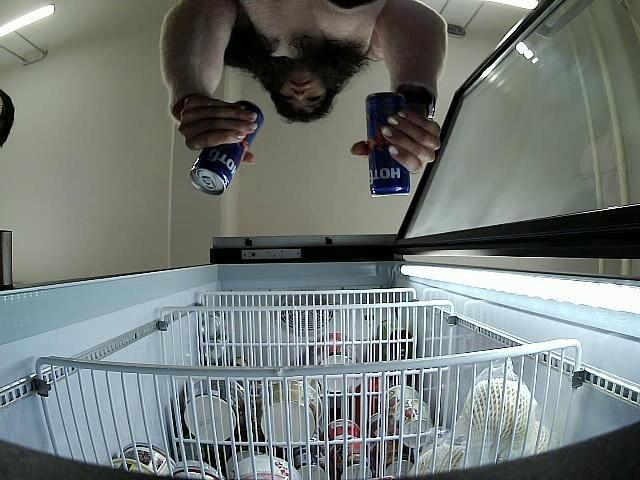16_hot6: (188, 100, 264, 197), (366, 92, 412, 196)
